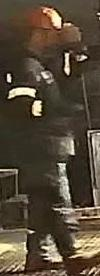gloves: (37, 99, 84, 120)
helmet: (25, 6, 63, 37)
vest: (6, 59, 72, 167)
